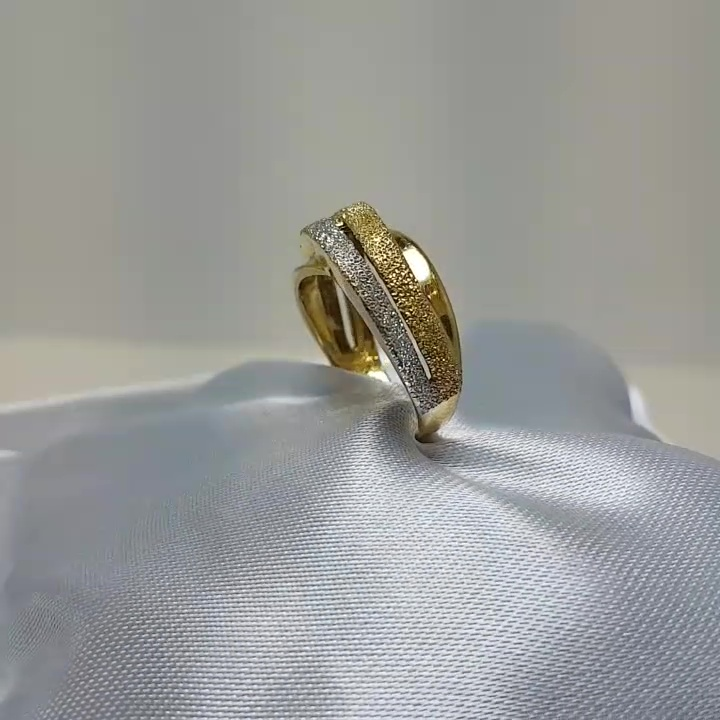Ring 5: (267, 185, 484, 471)
